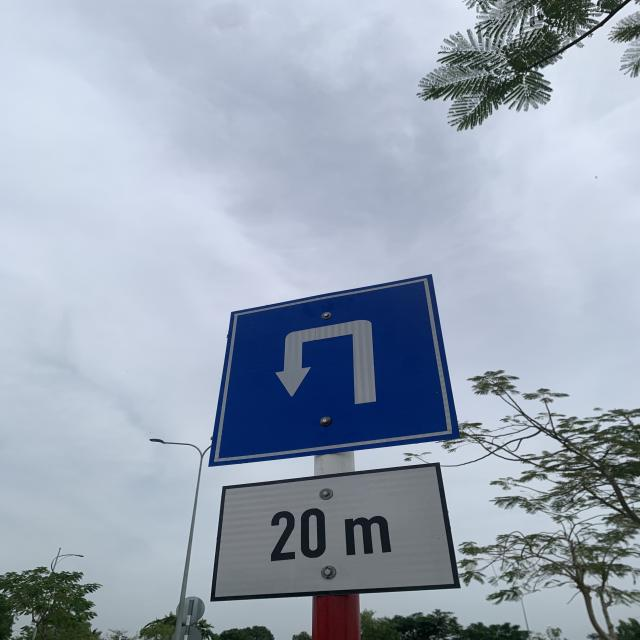Den_Giao_Thong: (213, 273, 459, 462)
